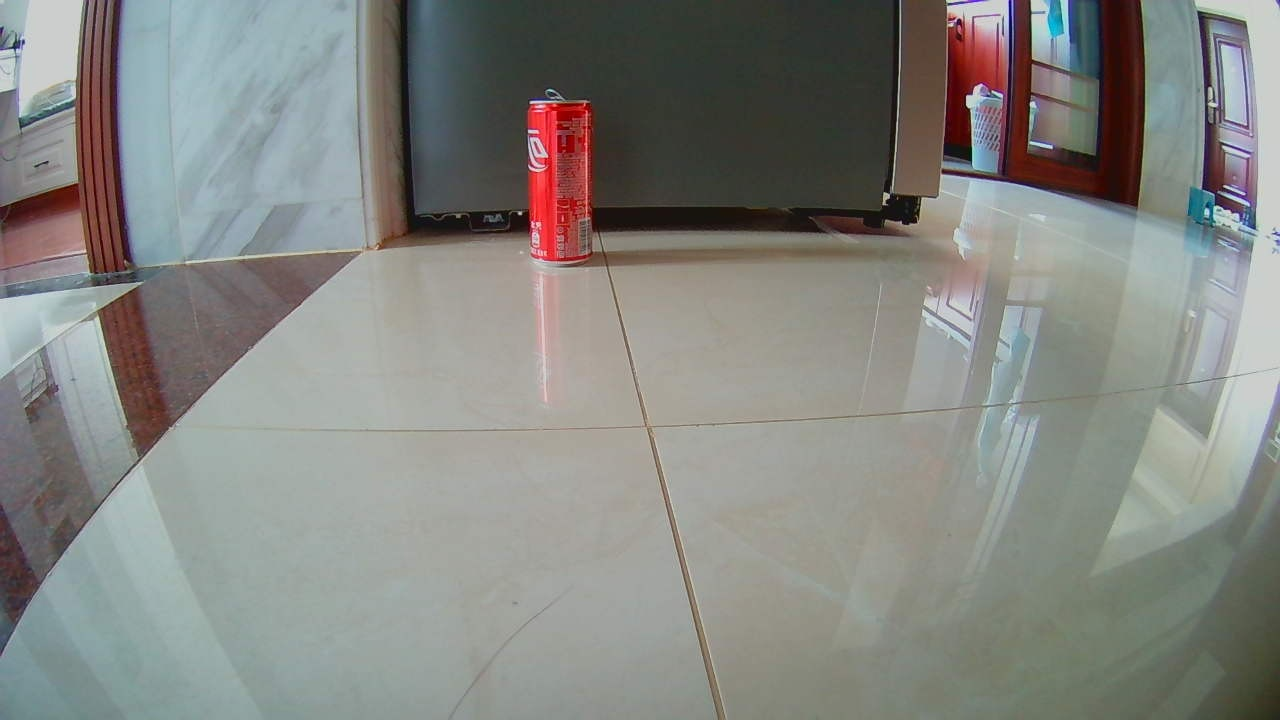cola: (522, 96, 593, 270)
